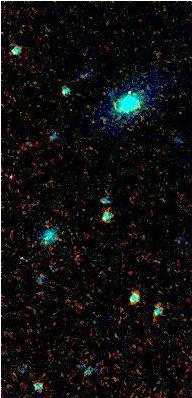star: (114, 78, 144, 108)
